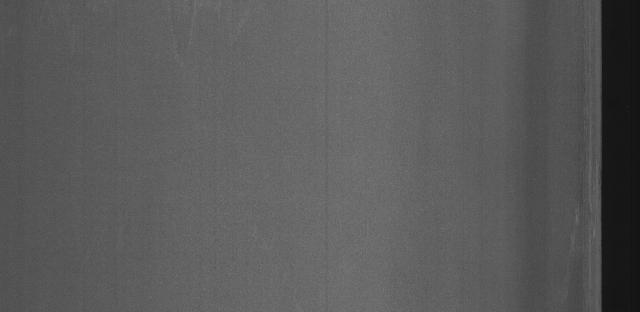silk_spot: (565, 101, 599, 285)
